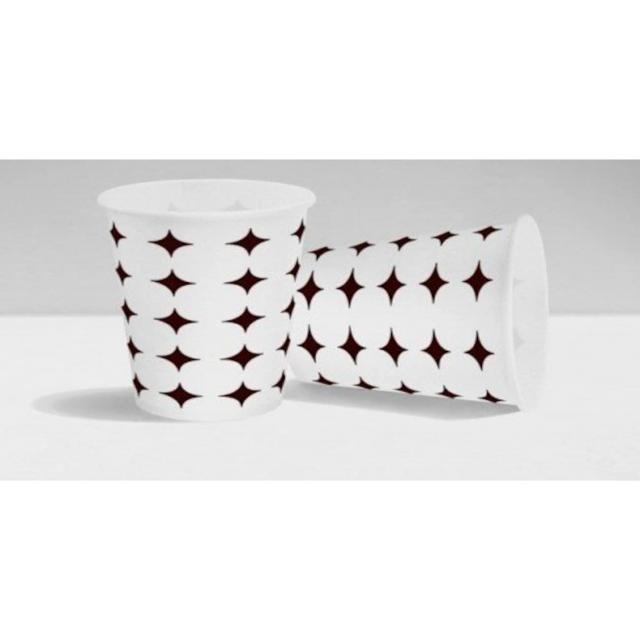karton-bardak: (106, 157, 312, 466), (284, 223, 629, 402)
